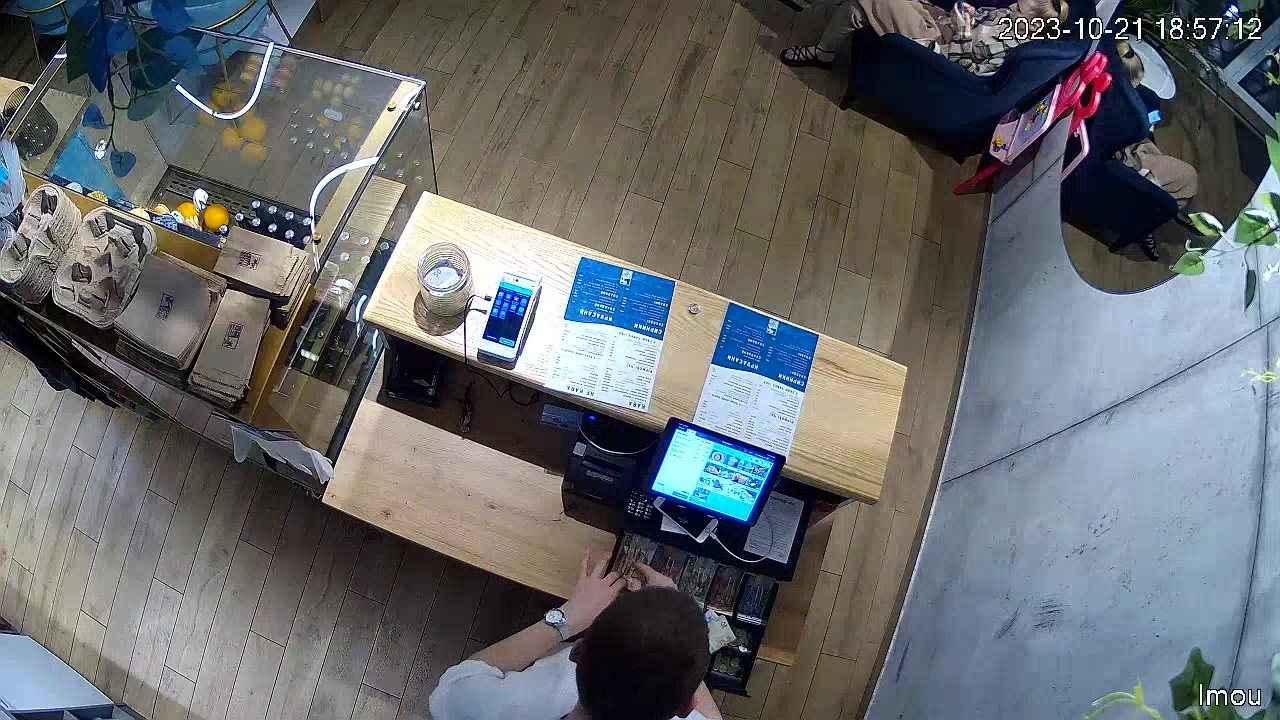openedcash: (607, 501, 743, 631)
